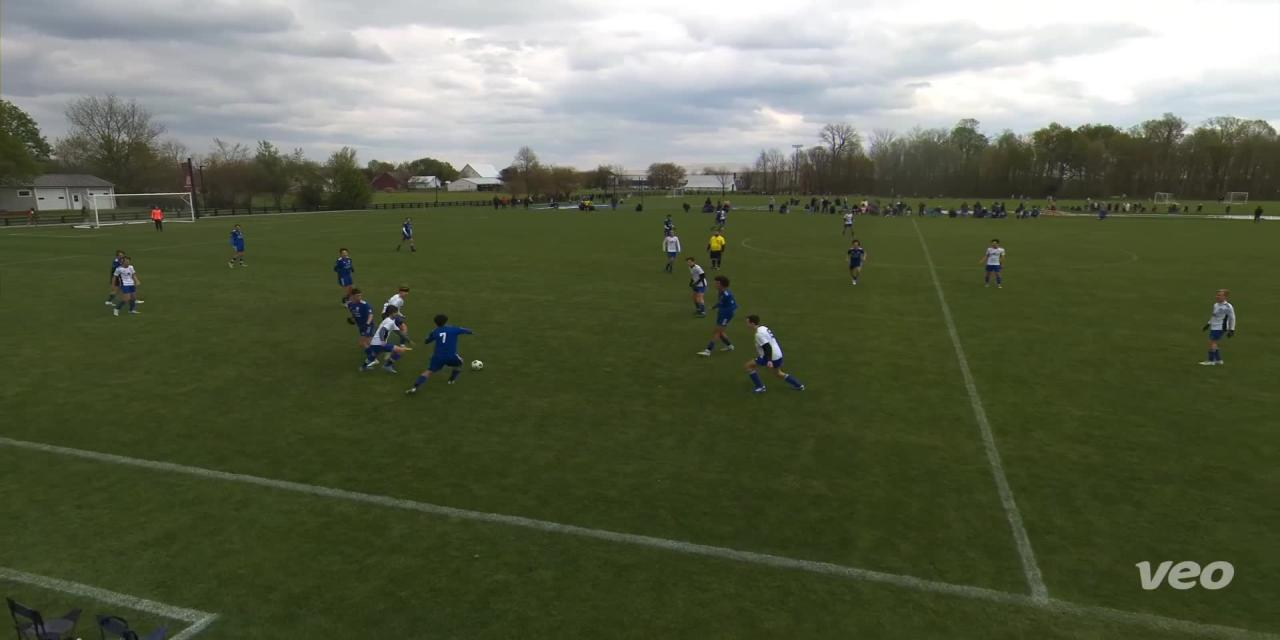goal: (72, 184, 210, 238)
sports ball: (465, 352, 490, 376)
